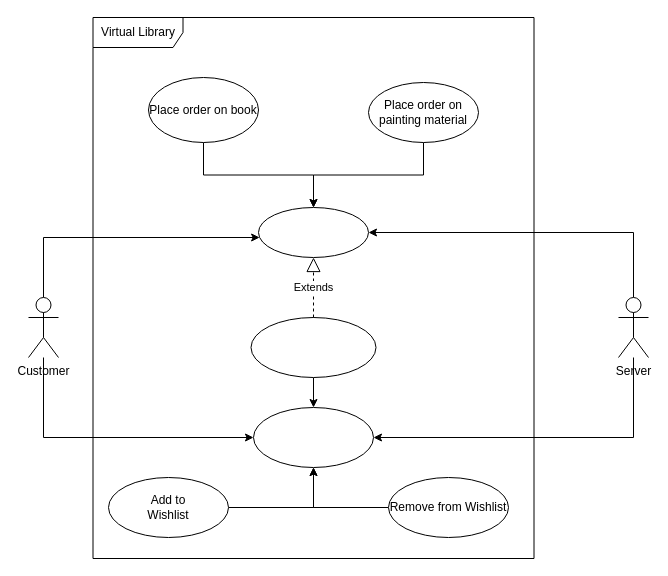
This 668x576 diagram has some shape labels left out. The shapes that lost their labels are listed below. From the top down, each one's box as (x1, y1, x2, y2) in pixels, then its label:
(258, 206, 368, 258): Place order
(250, 316, 376, 378): View Wishlist
(252, 406, 374, 468): Manage Wishlist
